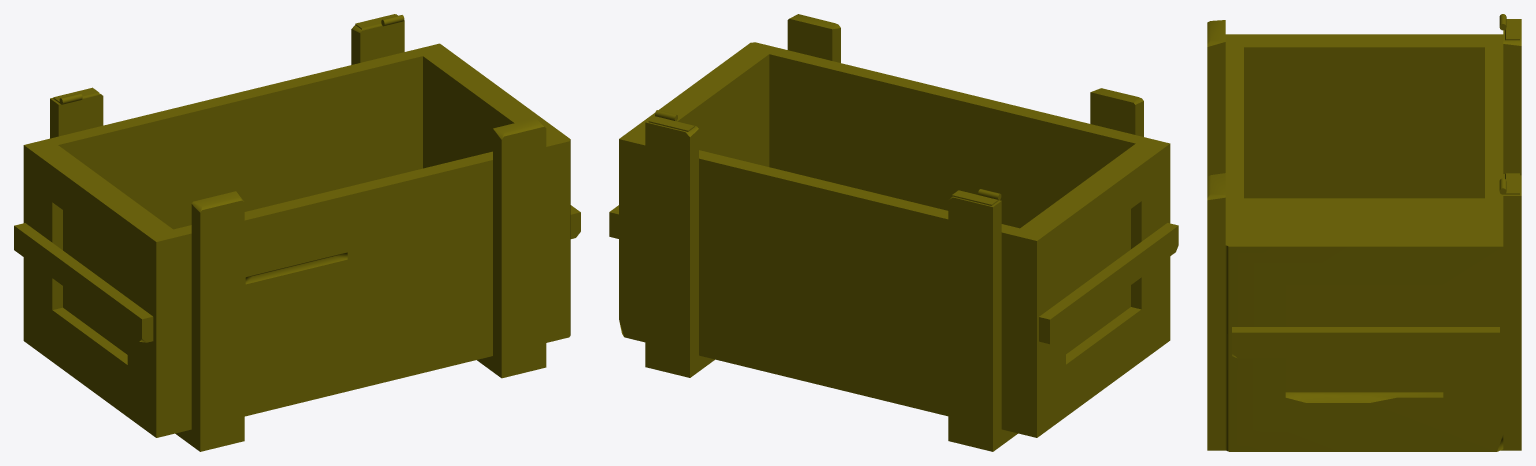
Rendered from SM_WoodBoxBase.fbx.
The picture shows the model from 3 angles, left to right: view 1: azimuth 30°, elevation 25°; view 2: azimuth 150°, elevation 25°; view 3: azimuth 270°, elevation 25°; orthographic projection. The views are drawn at different scales.
Parts seen in each view (by area): view 1: WoodBoxBase; view 2: WoodBoxBase; view 3: WoodBoxBase.
Part boxes in pixels (x1,y1,x2,y2): WoodBoxBase: (14, 14, 580, 451); WoodBoxBase: (609, 14, 1178, 451); WoodBoxBase: (1207, 14, 1521, 451).
Size of the model in its own units: 88.23 by 47.95 by 52.31.
